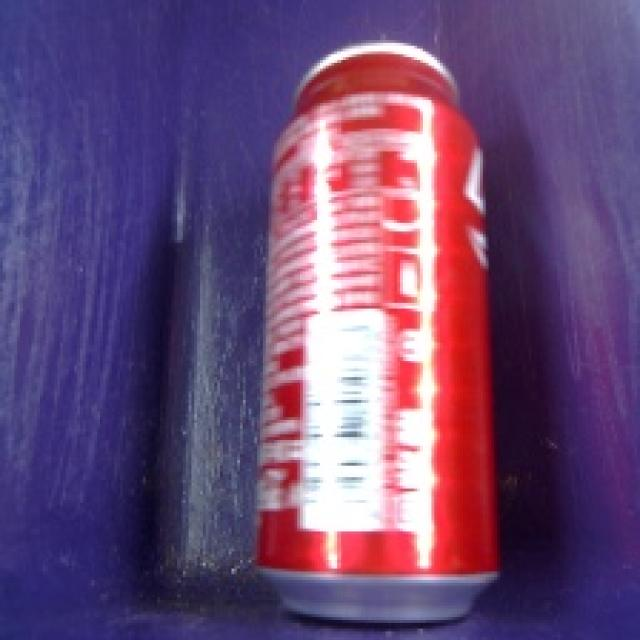metal: (221, 29, 550, 634)
